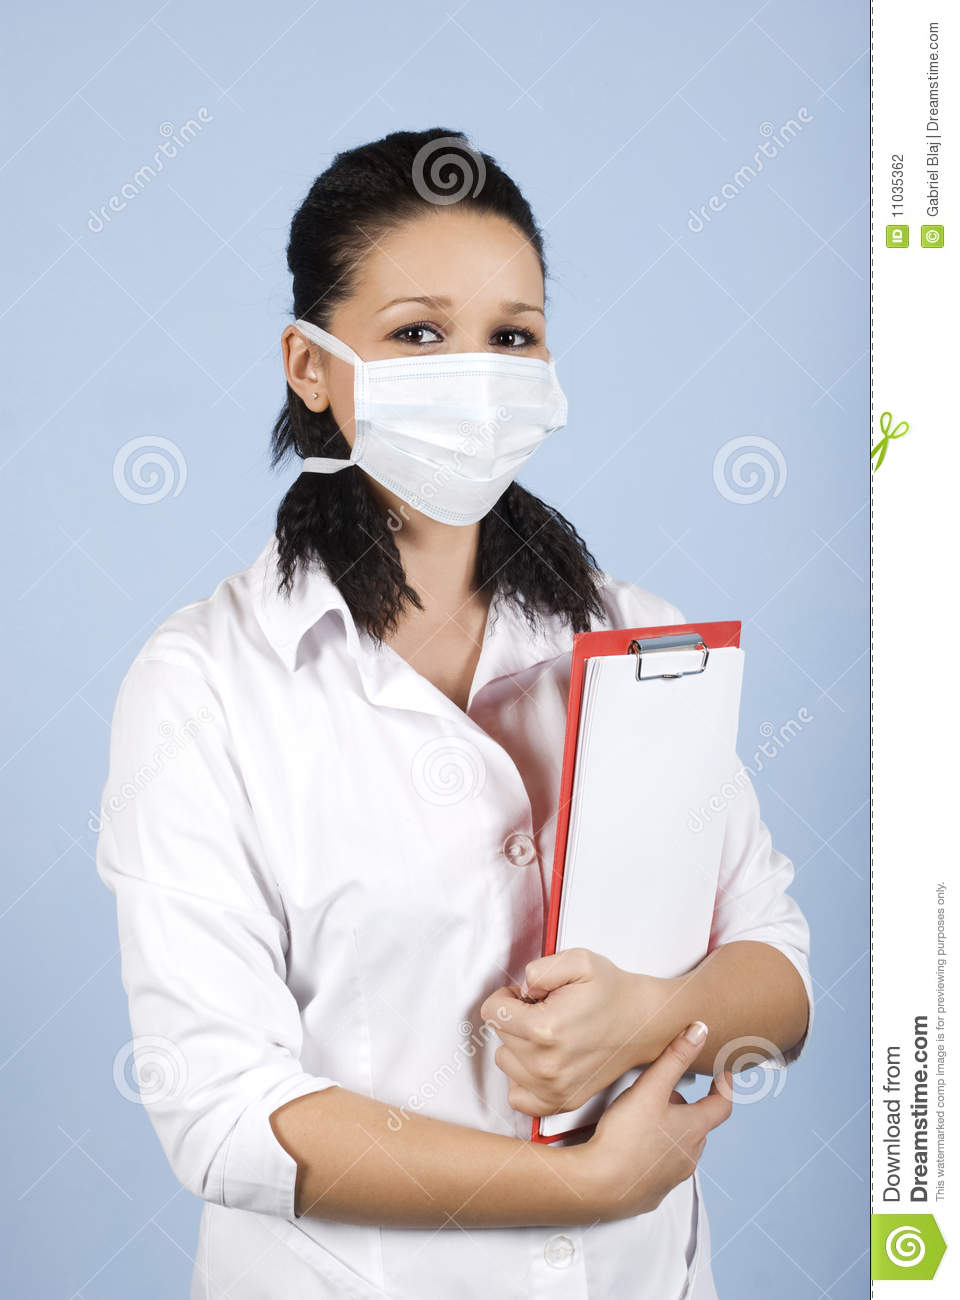mask: (351, 359, 563, 532)
